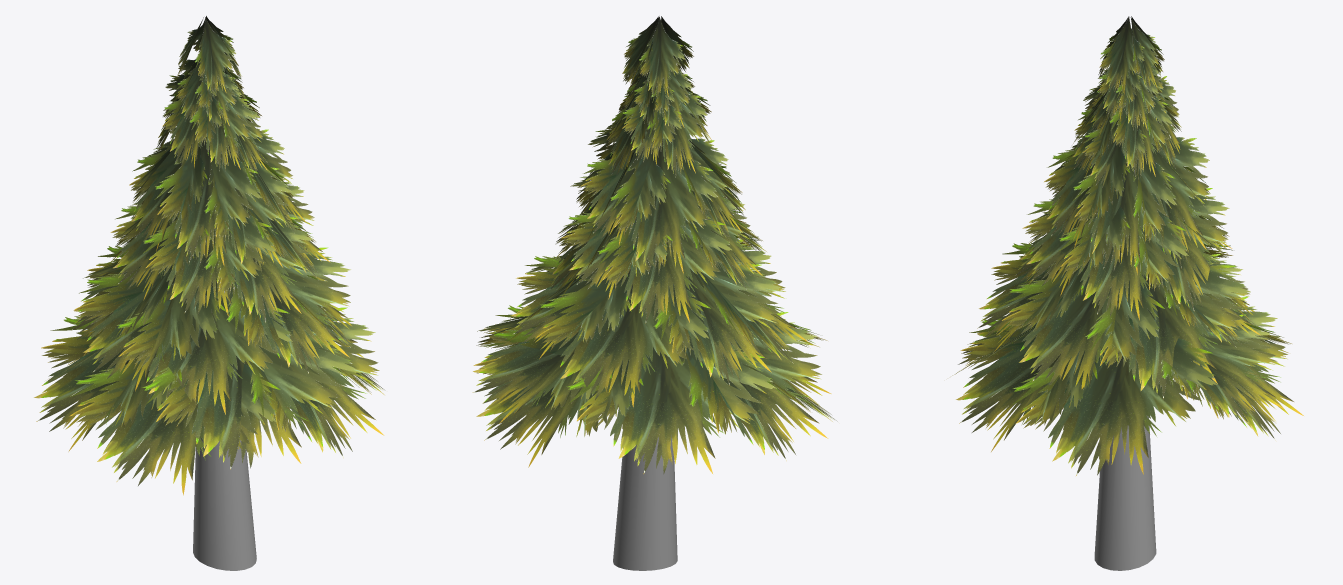
Rendered from fir.fbx.
3 views of the same model, side by side, from view 1: azimuth 30°, elevation 25°; view 2: azimuth 150°, elevation 25°; view 3: azimuth 270°, elevation 25° (orthographic). The views are drawn at different scales.
Visible parts, largest first — view 1: pPlane124, pCylinder17; view 2: pPlane124, pCylinder17; view 3: pPlane124, pCylinder17.
Part boxes in pixels (left/top/right/bottom): pPlane124: left=34, top=16, right=385, bottom=495; pCylinder17: left=193, top=437, right=256, bottom=570; pPlane124: left=472, top=16, right=838, bottom=474; pCylinder17: left=613, top=430, right=677, bottom=570; pPlane124: left=952, top=16, right=1303, bottom=475; pCylinder17: left=1094, top=415, right=1156, bottom=570.
Bounding box in the file's own units: 6.38 × 8.65 × 6.15.
